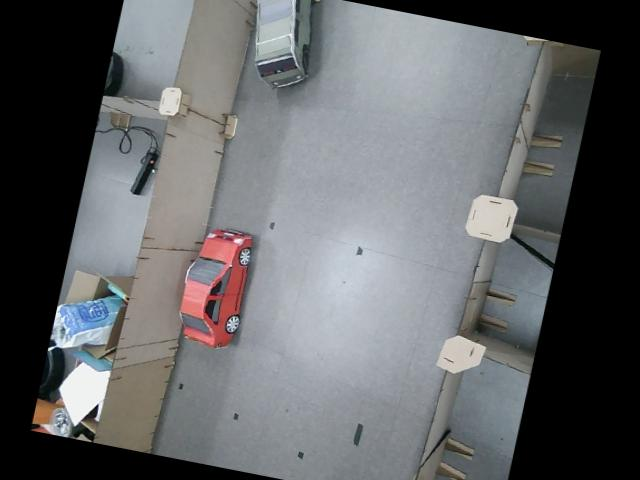car: (169, 220, 258, 352), (236, 0, 327, 98)
